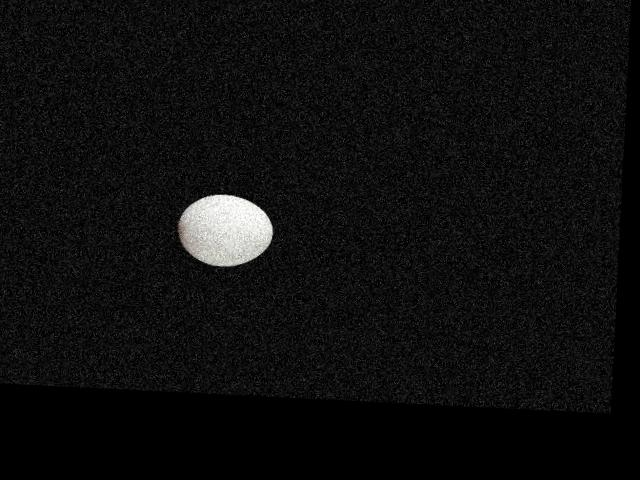egg: (176, 191, 274, 268)
